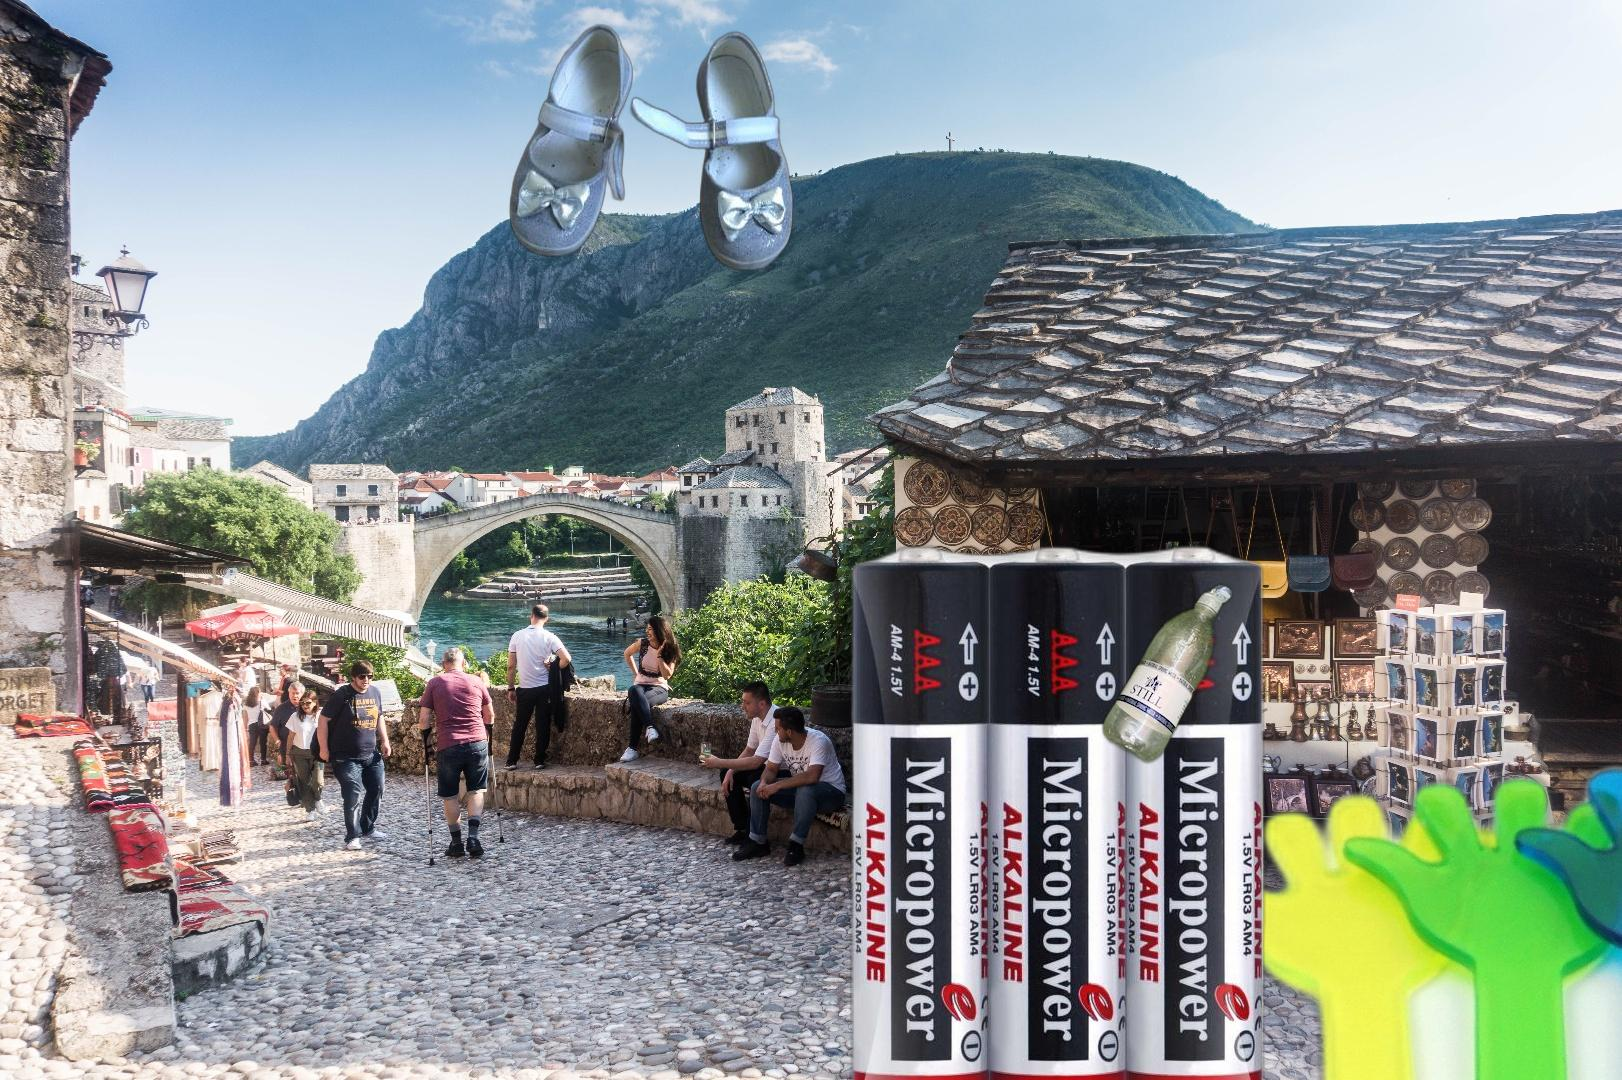battery: (845, 539, 1271, 1080)
penholder: (1176, 739, 1622, 1080)
plastic-bottles: (1098, 579, 1238, 768)
shoes: (506, 20, 797, 275)
